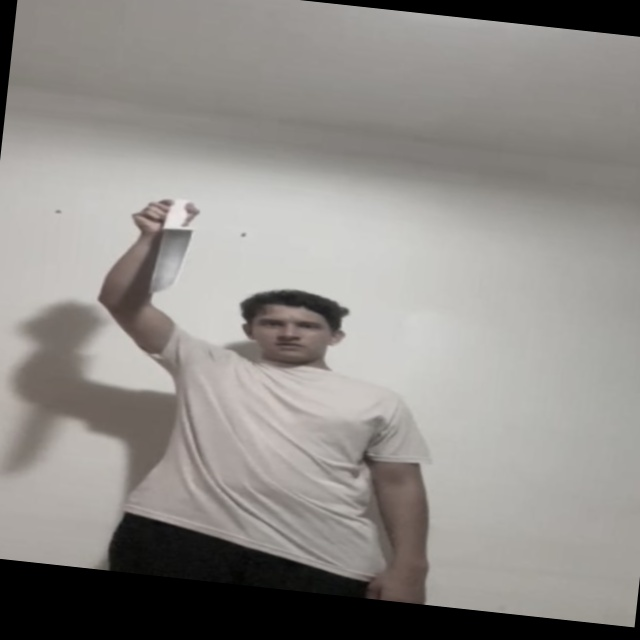Sharp-Object: (148, 225, 188, 293)
